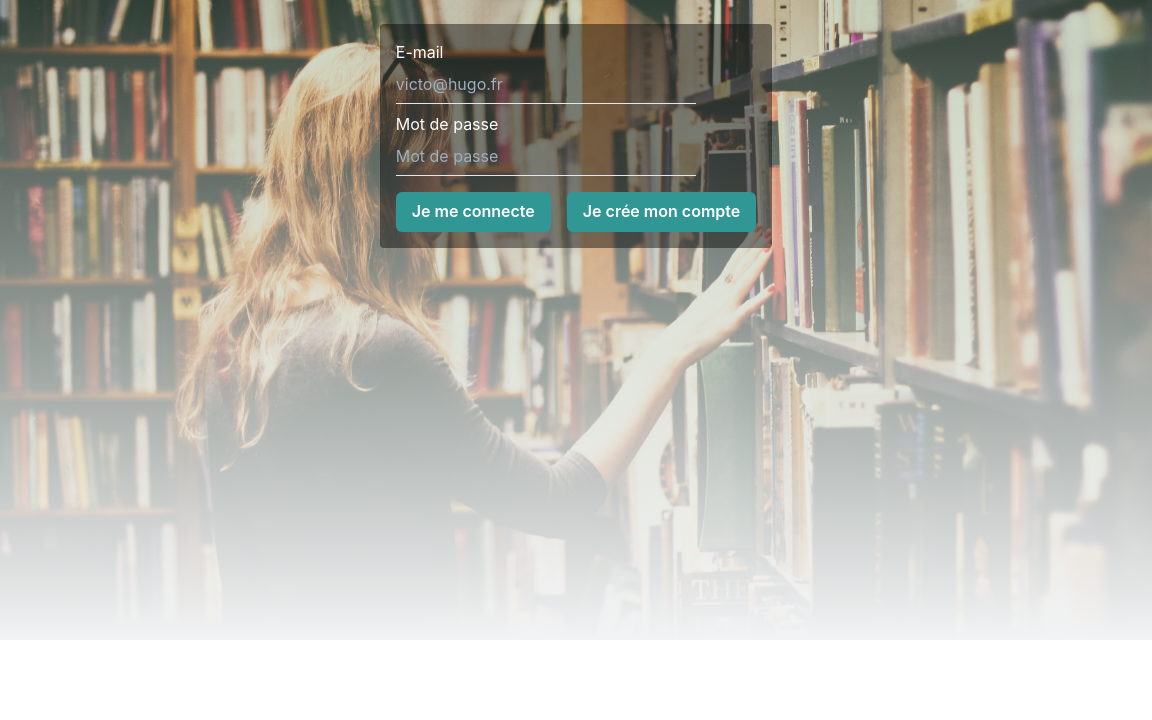
Test: Test Login Page › should display matching error when email is invalid
Type "test" into the field labelled "E-mail".
click(546, 84); type("test")  # box top-left (396, 64), bottom-right (696, 104)
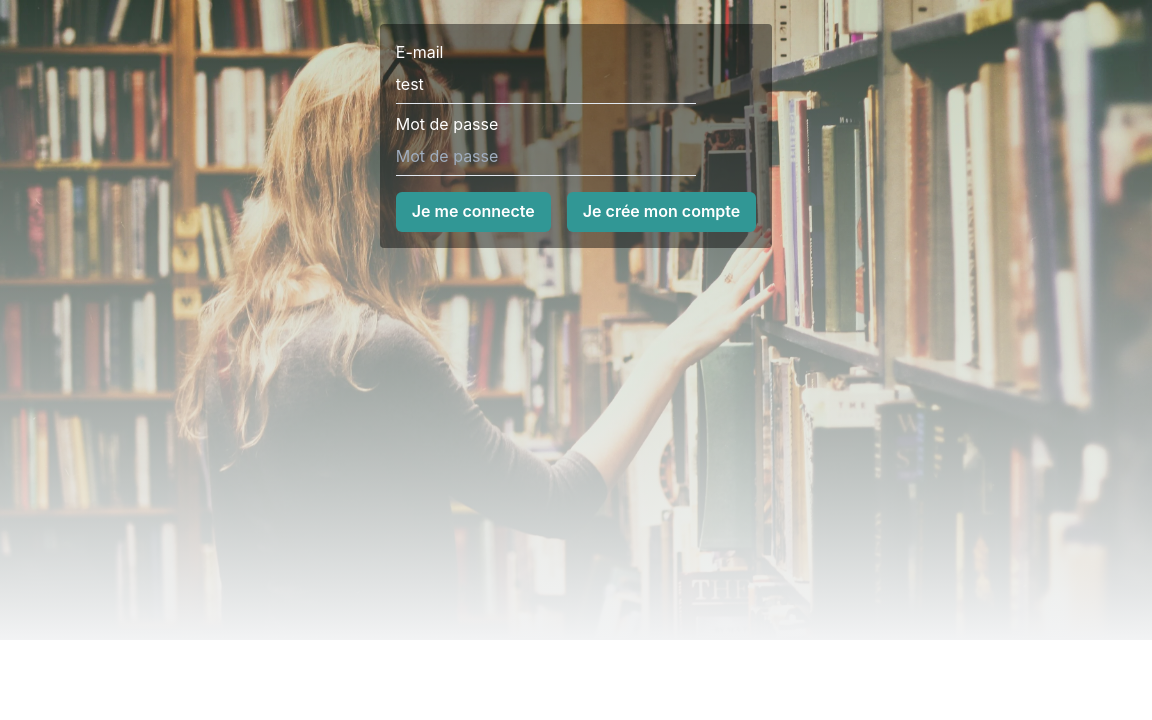
Type "password" into the field labelled "Mot de passe".
click(546, 156); type("password")  # box top-left (396, 136), bottom-right (696, 176)
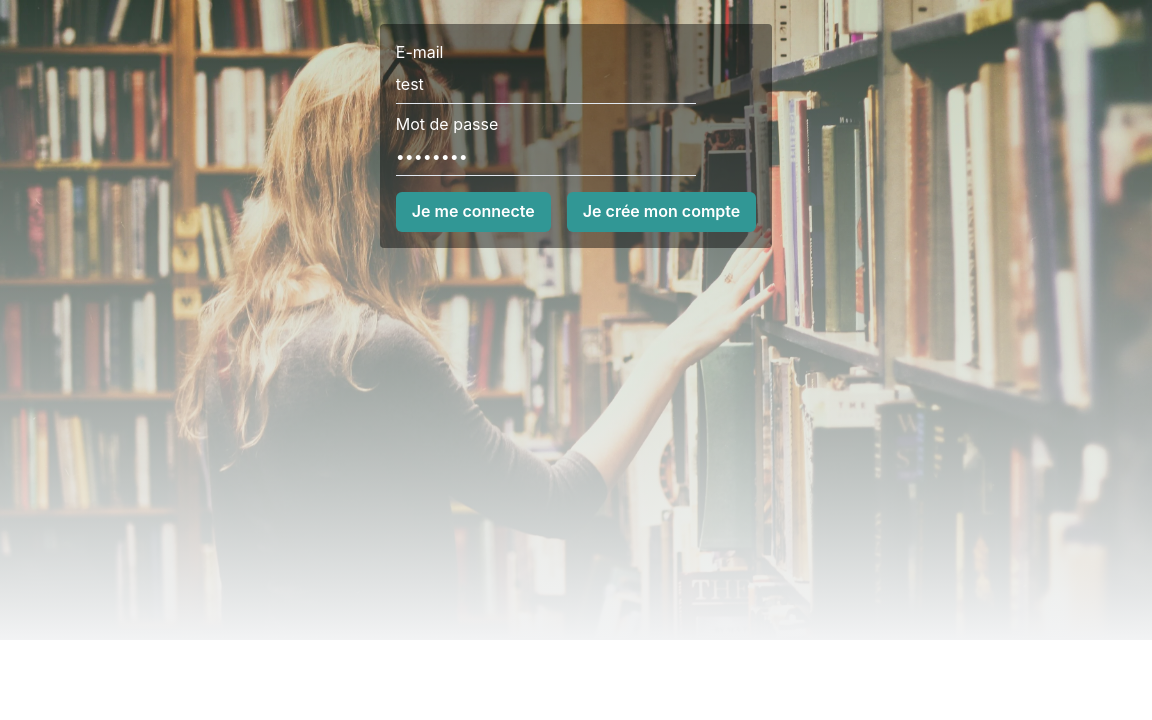
Submit the form from the button "Je me connecte", box top-left (396, 192), bottom-right (551, 232)
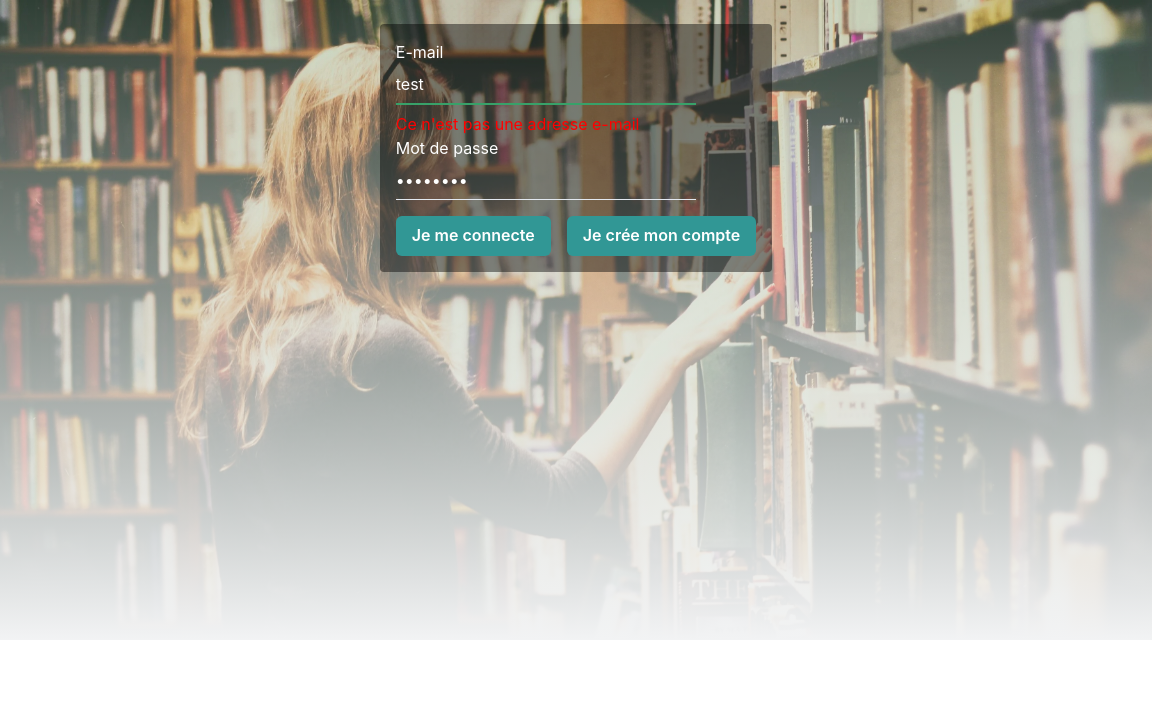
Now the number of messages is 1, box top-left (396, 114), bottom-right (640, 134)
